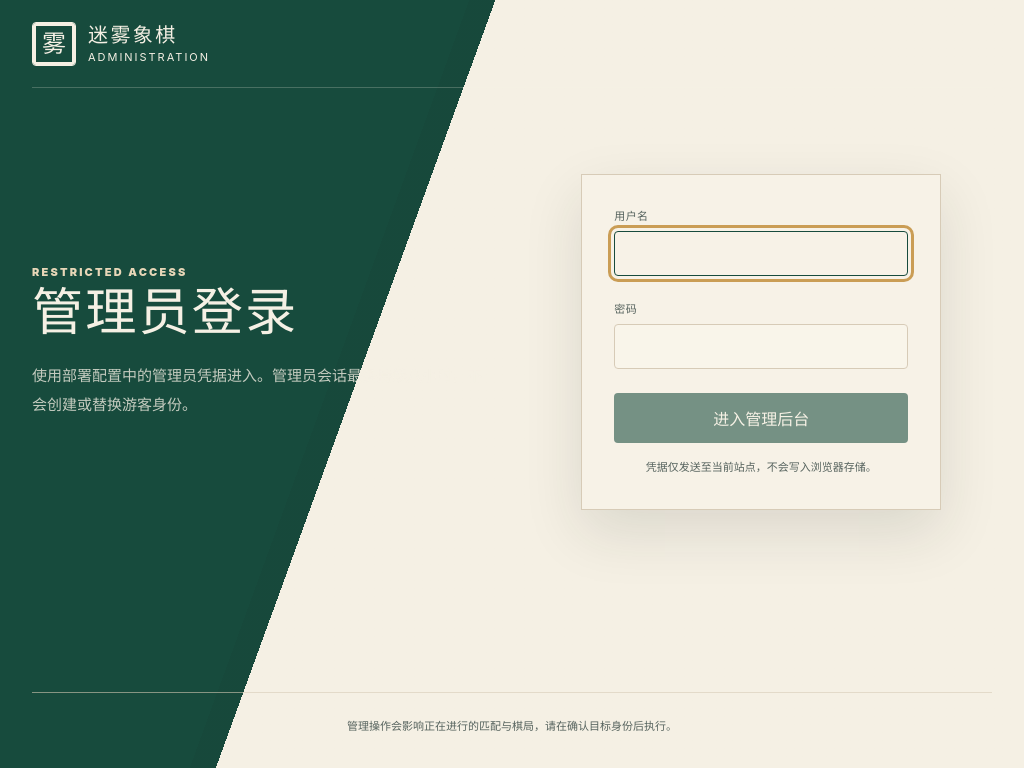
Scenario: AdminLoginPage › presents the server login error without leaving the login page
Expected: the heading "管理员登录" is shown, x1=32 y1=284 x2=298 y2=341
Type "operator" into the field labelled "用户名".
click(761, 254); type("operator")  # box x1=614 y1=231 x2=908 y2=276
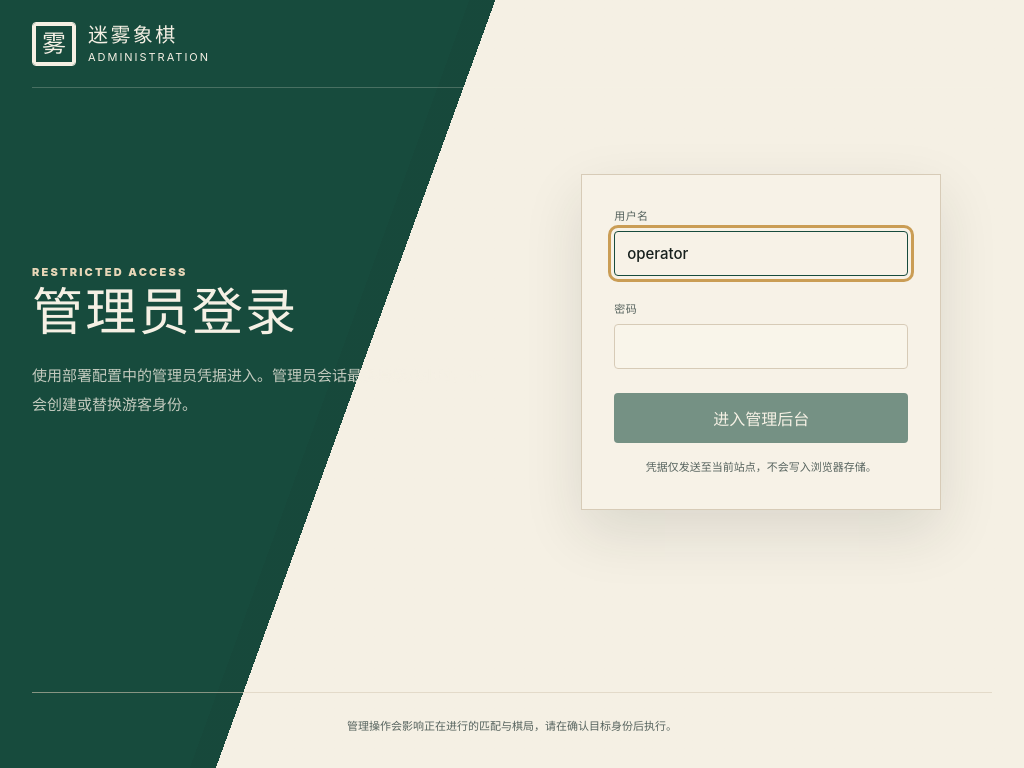
Type "wrong password" into the password field labelled "密码".
click(761, 347); type("wrong password")  # box x1=614 y1=324 x2=908 y2=369
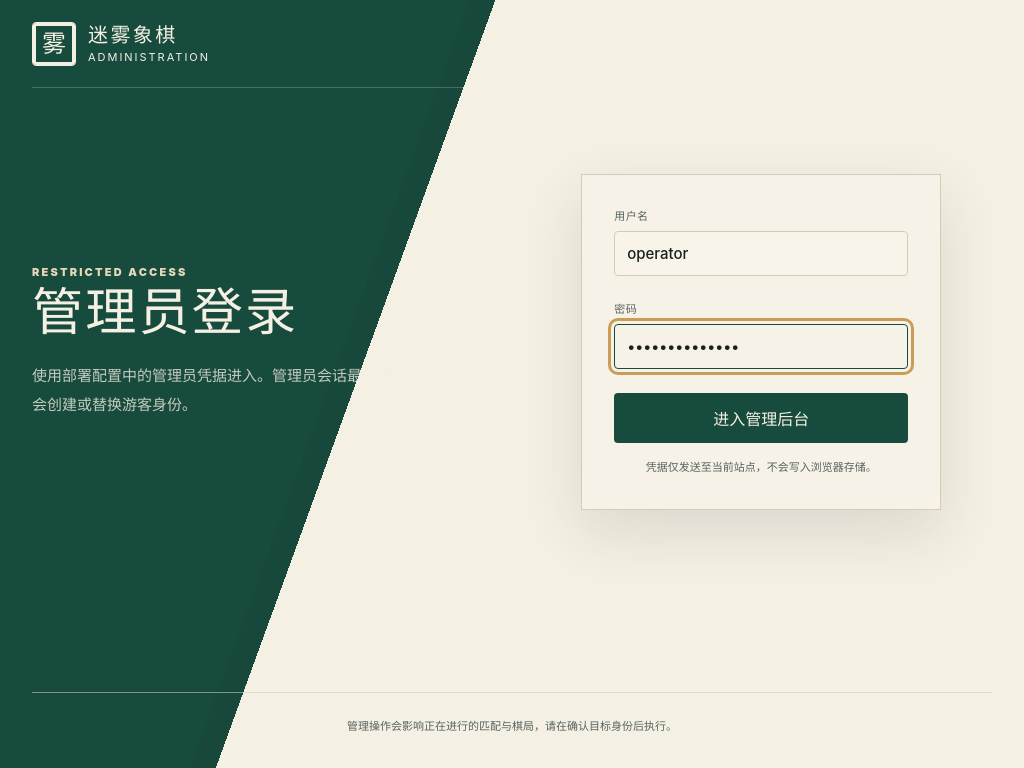
Click the button "进入管理后台".
click(761, 418)  # box x1=614 y1=393 x2=908 y2=443
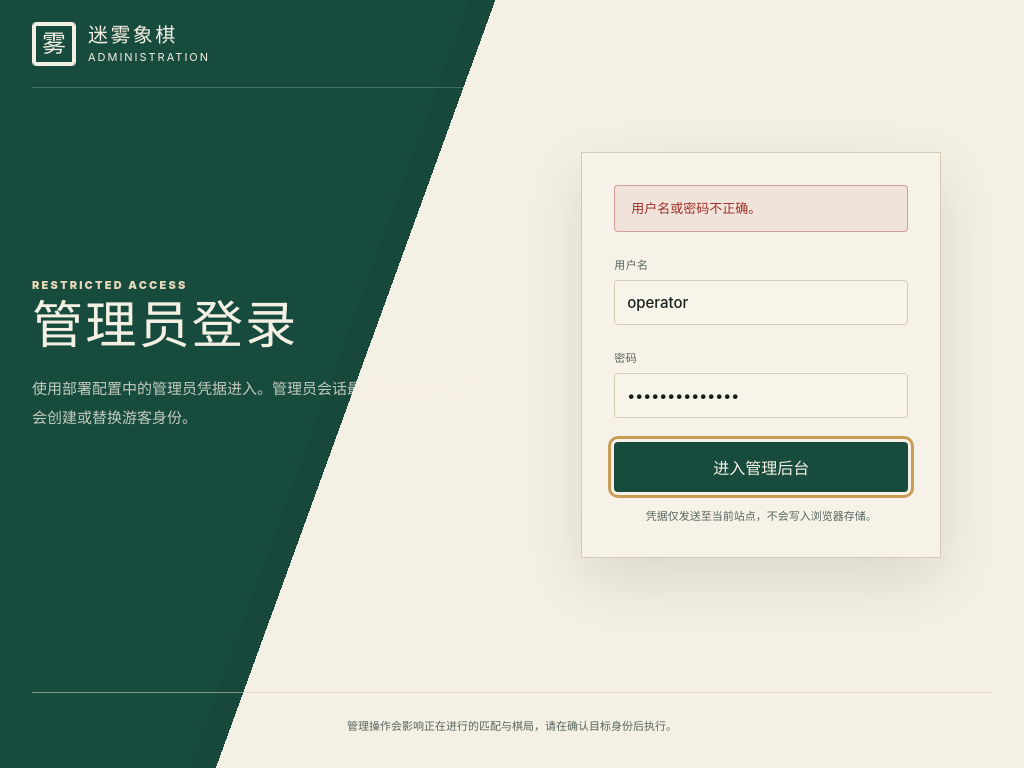
Expected: the heading "管理员登录" is shown, x1=32 y1=297 x2=298 y2=354
Result: the message reads "用户名或密码不正确。" at x1=631 y1=200 x2=761 y2=216
